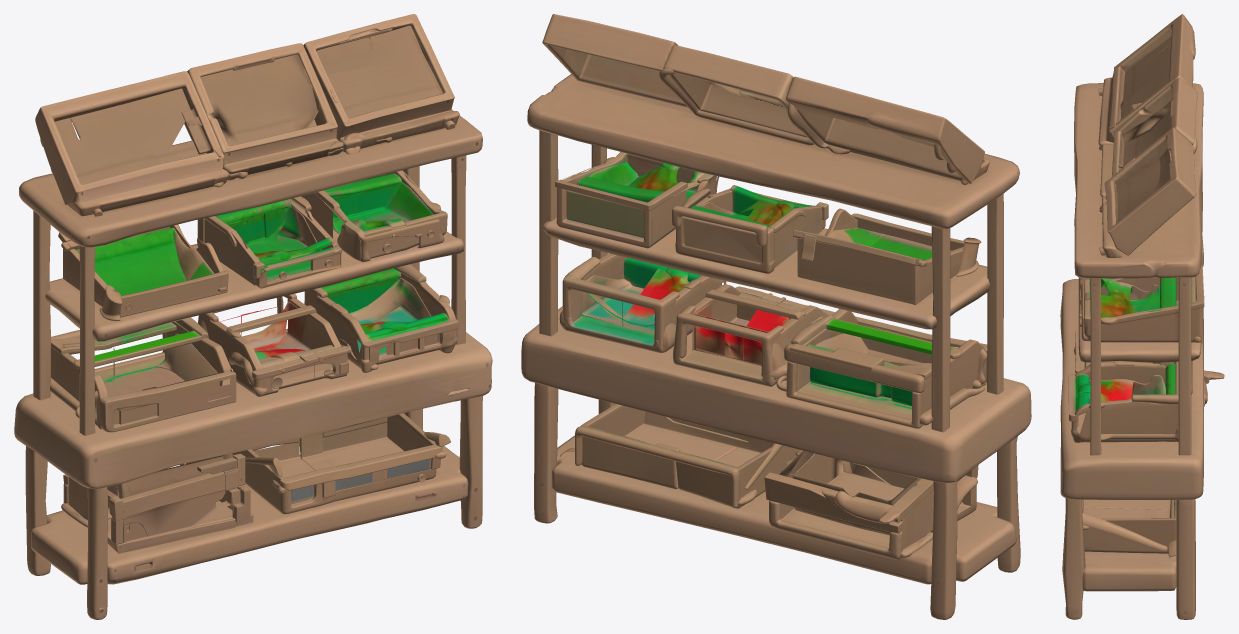
The model's file is toonstudio_market_shelf.glb.
3 views of the same model, side by side, from view 1: azimuth 30°, elevation 25°; view 2: azimuth 150°, elevation 25°; view 3: azimuth 270°, elevation 25° (orthographic). The views are drawn at different scales.
Visible parts, largest first — view 1: tripo_81861eee_26de_4381_8717_1ca4e3572c77; view 2: tripo_81861eee_26de_4381_8717_1ca4e3572c77; view 3: tripo_81861eee_26de_4381_8717_1ca4e3572c77.
Part boxes in pixels (x1,y1,x2,y2): tripo_81861eee_26de_4381_8717_1ca4e3572c77: (14, 14, 492, 619); tripo_81861eee_26de_4381_8717_1ca4e3572c77: (521, 14, 1031, 619); tripo_81861eee_26de_4381_8717_1ca4e3572c77: (1060, 14, 1224, 619).
Bounding box in the file's own units: 2.28 × 2.5 × 0.8464.
Materials: 1 (1 with a texture image).
